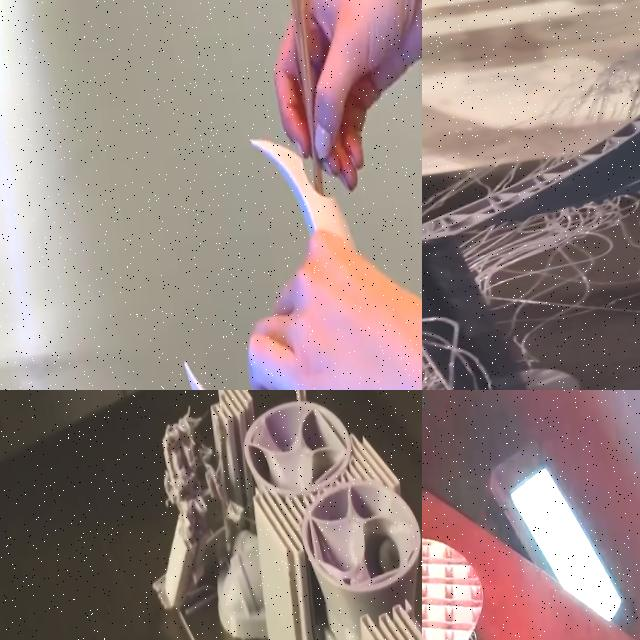spaghetti: (422, 142, 640, 390)
